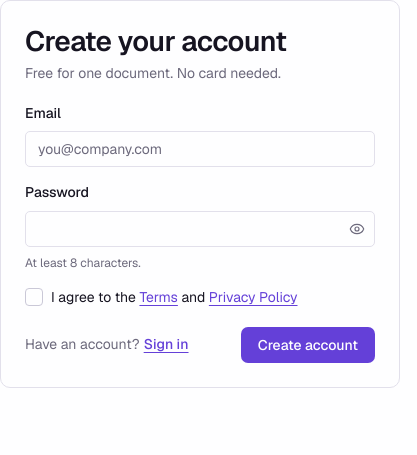
Test: SignUpForm › checks the fields before sending anything
Type "nope" into the field labelled "Email".
click(200, 149); type("nope")  # box [25,131,375,167]
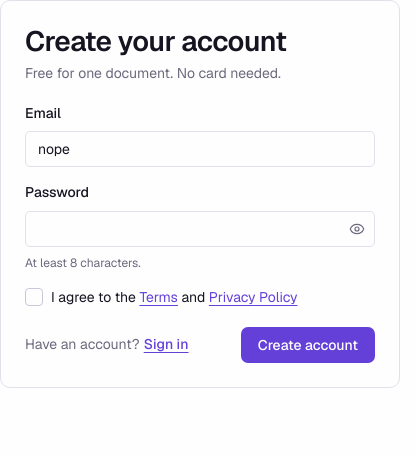
Type "short" into the password field labelled "Password".
click(200, 229); type("short")  # box [25,211,375,247]
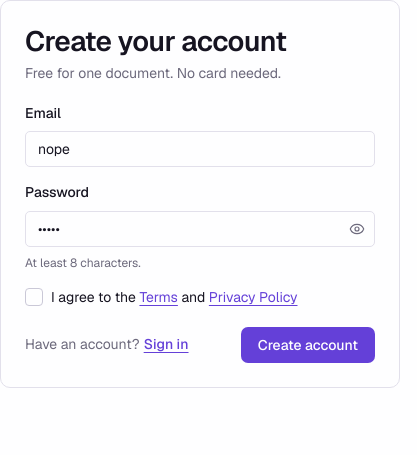
Click the button "Create account".
click(308, 345)  # box [241,327,375,363]
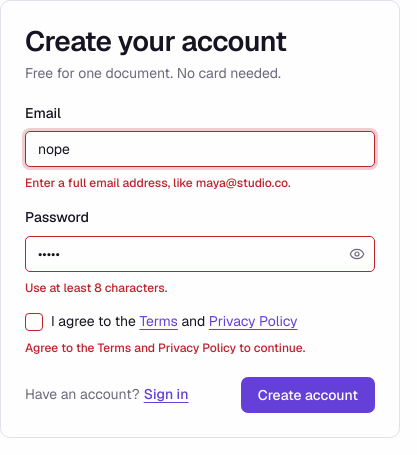
Now the text "Enter a full email address, like maya@studio.co." is shown, box [25,175,291,191]
Now the text "Use at least 8 characters." is shown, box [25,280,167,296]
Now the text "Agree to the Terms and Privacy Policy to continue." is shown, box [25,340,305,356]
